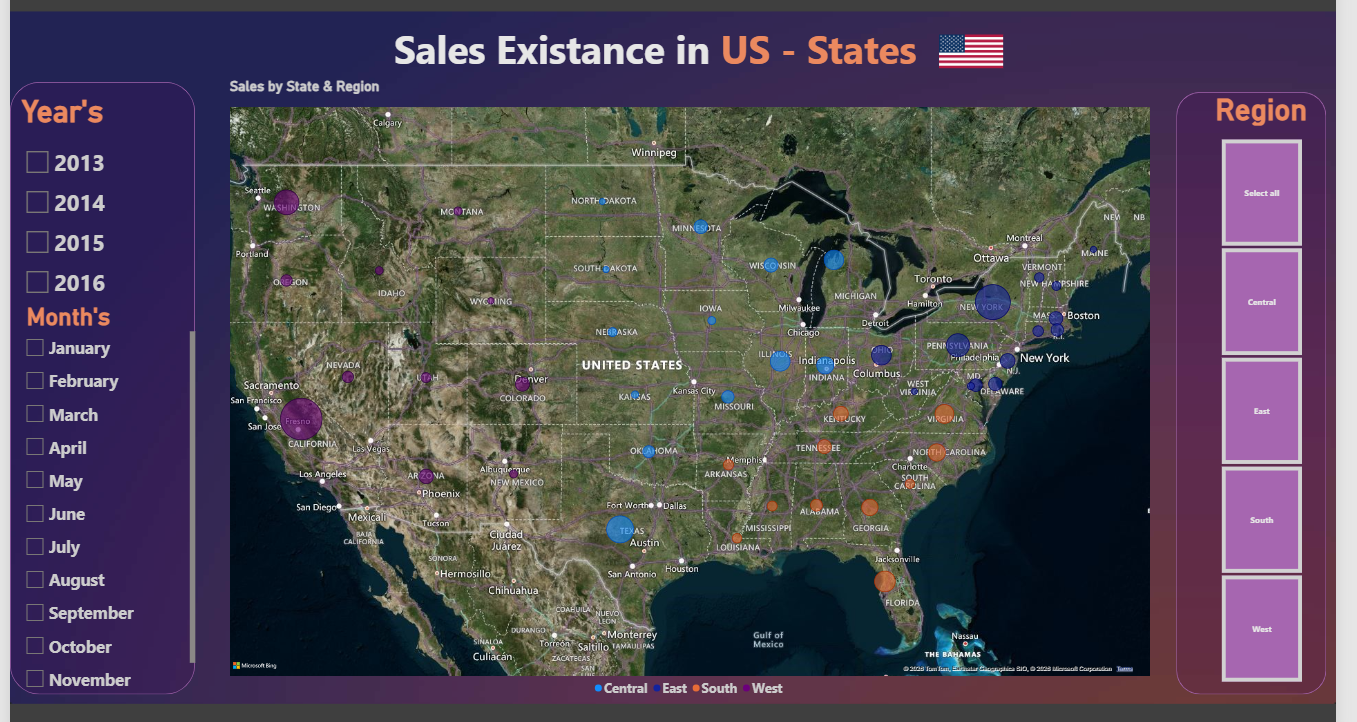

Layout of this report page (visuals, bound fields, positions):
{"tool":"powerbi","page":{"name":"usa sales states ","canvas":[1920,1080],"ordinal":3},"visuals":[{"type":"shape","box":[1688.4,152,217.2,872.3],"z":0},{"type":"shape","box":[0,137.5,267.8,886.7],"z":1000},{"type":"map","title":"Sales by State & Region","fields":{"Category":["Appendregions.State"],"Series":["Appendregions.Region"],"Size":["Sum(Appendregions.Sales)"]},"box":[302.2,117.6,1364.5,930.2],"z":2000},{"type":"textbox","box":[329.5,50,1225,106.8],"z":3000},{"type":"slicer","title":"Year''s","fields":{"Values":["Appendregions.Order Date.Variation.Date Hierarchy.Year"]},"box":[15.9,154.5,286.4,302.3],"z":4000},{"type":"slicer","fields":{"Values":["Appendregions.Order Date.Variation.Date Hierarchy.Month"]},"box":[15.9,456.8,252.3,568.2],"z":5000},{"type":"slicer","title":"Region","fields":{"Values":["Appendregions.Region"]},"box":[1733.7,152,155.6,856],"z":6000},{"type":"image","box":[1313.8,68.8,155.6,48.9],"z":6001}]}

Visuals, with their boxes on the page's 1920x1080 design canvas (x1, y1, x2, y2). These are canvas units, not pixel positions in the 1357x722 screenshot, which may show the page scaled, cropped or inside an application window:
shape: (left=1688, top=152, right=1906, bottom=1024)
shape: (left=0, top=138, right=268, bottom=1024)
"Sales by State & Region" map: (left=302, top=118, right=1667, bottom=1048)
textbox: (left=330, top=50, right=1554, bottom=157)
"Year''s" slicer: (left=16, top=154, right=302, bottom=457)
slicer - Appendregions.Order Date.Variation.Date Hierarchy.Month: (left=16, top=457, right=268, bottom=1025)
"Region" slicer: (left=1734, top=152, right=1889, bottom=1008)
image: (left=1314, top=69, right=1469, bottom=118)
